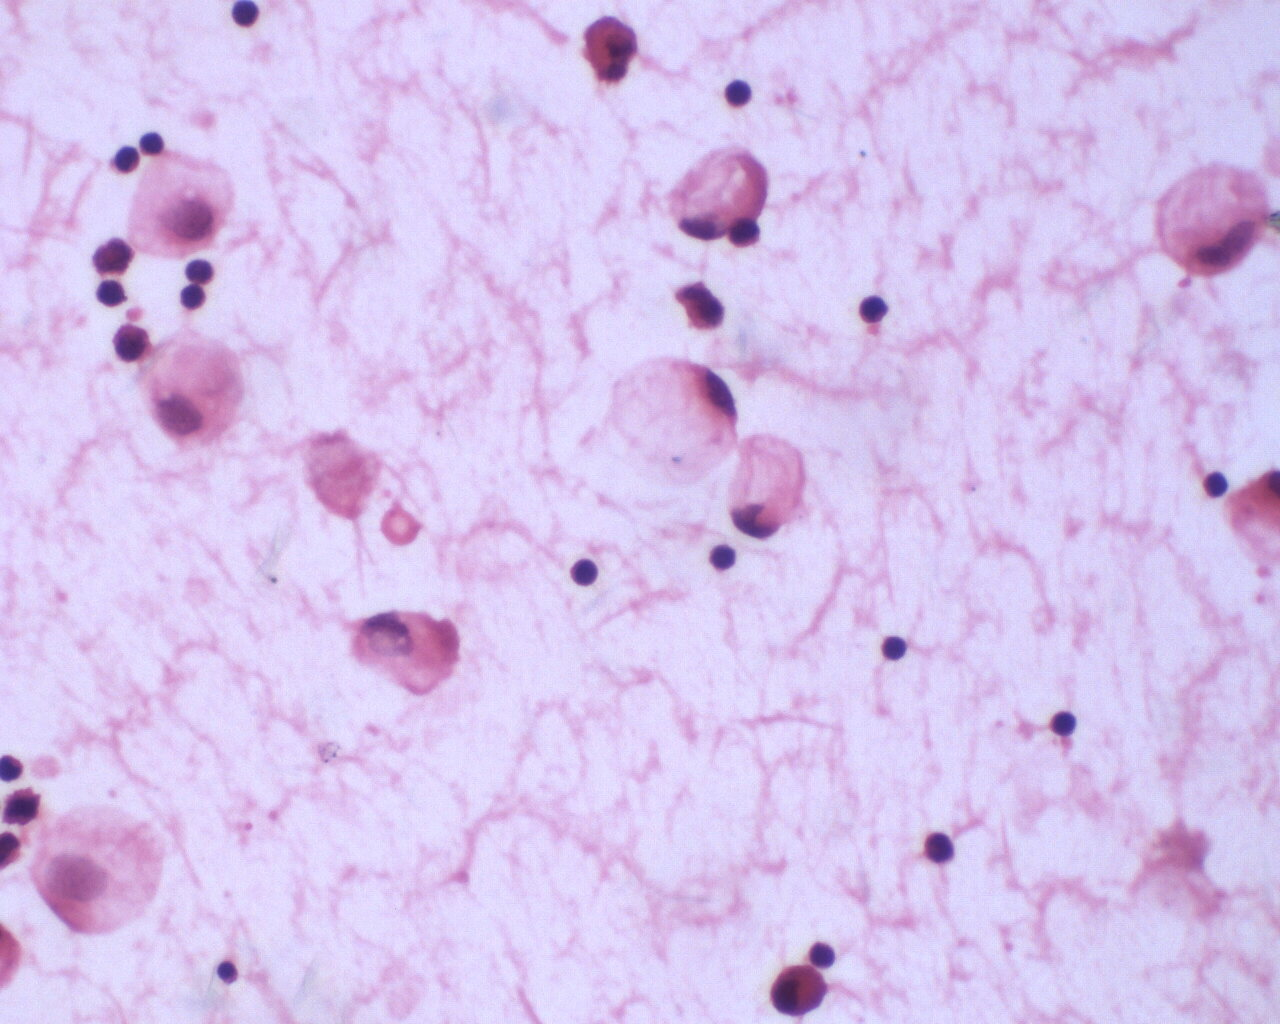histo: (34, 799, 183, 940), (604, 350, 741, 492), (1146, 149, 1273, 285), (135, 330, 256, 461), (129, 152, 240, 260), (665, 141, 770, 243)
lymph: (855, 289, 893, 333), (877, 630, 910, 670), (174, 278, 211, 313), (1047, 706, 1083, 741), (720, 71, 754, 107), (569, 555, 600, 591), (230, 1, 258, 29)
